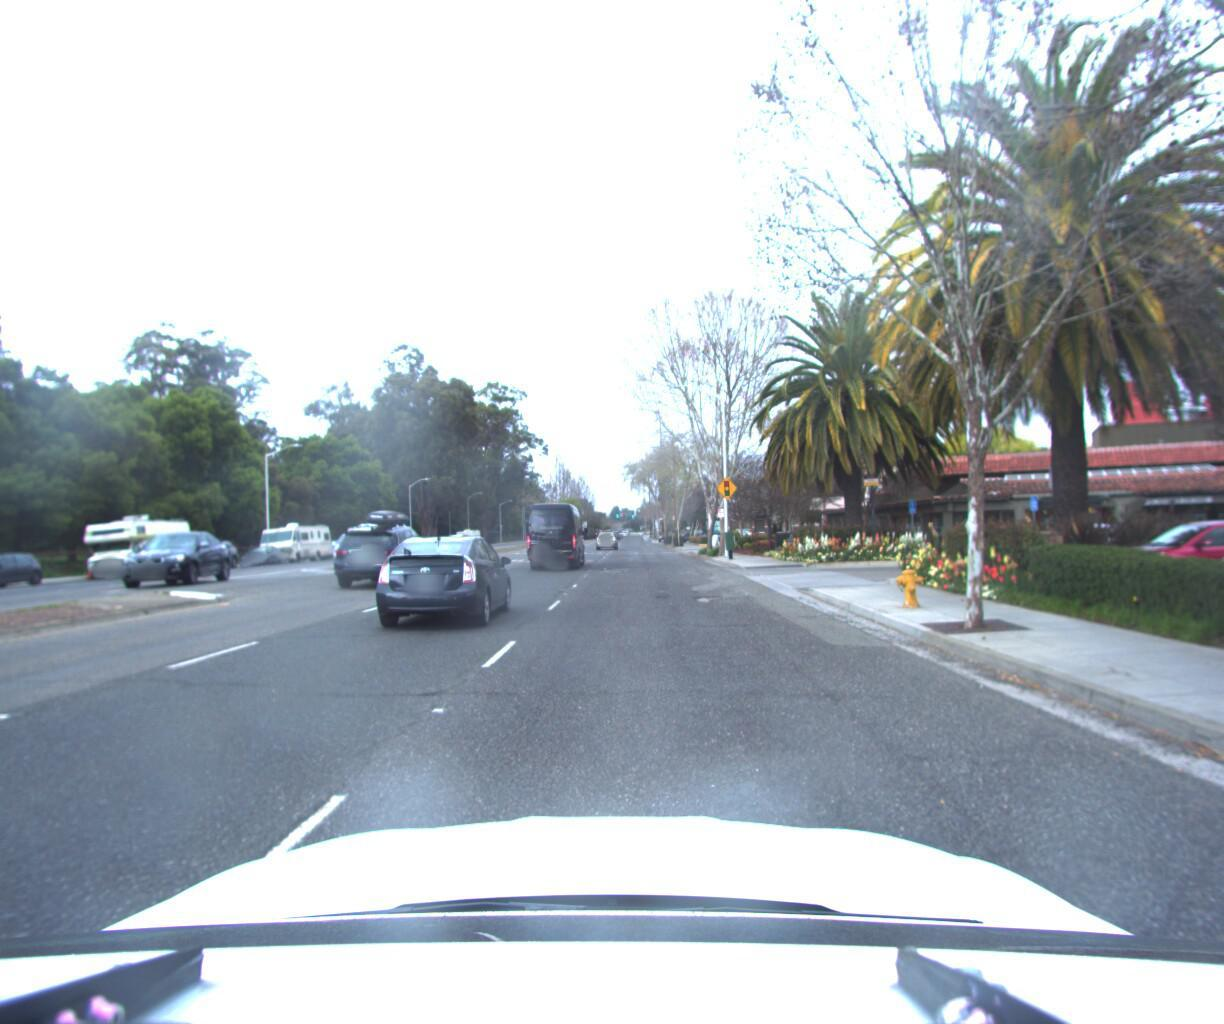car: (371, 528, 525, 633), (1086, 511, 1224, 597), (334, 506, 448, 592), (116, 530, 240, 592), (1208, 450, 1224, 633), (0, 552, 61, 595), (334, 530, 388, 569), (242, 545, 292, 568), (444, 533, 477, 551), (595, 528, 620, 548)
other_vehicle: (83, 513, 202, 581), (525, 500, 589, 573), (259, 521, 341, 566), (347, 522, 401, 558)
